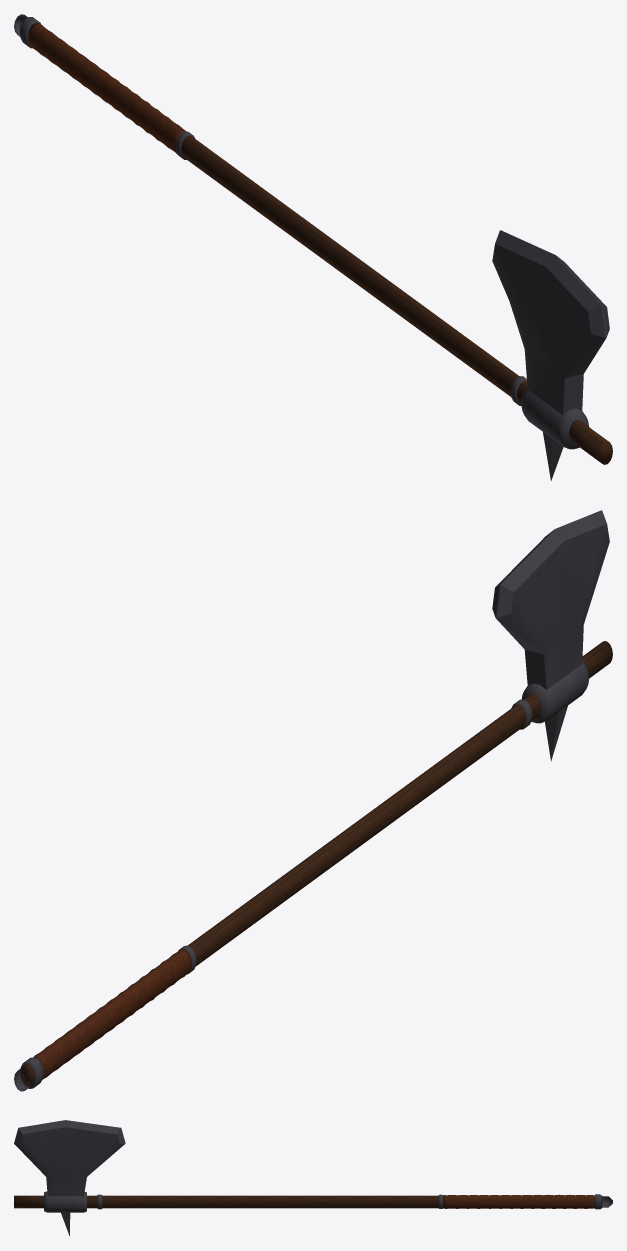
The model's file is weapon_timber_axe.glb.
3 renders of one model, top to bottom at view 1: azimuth 30°, elevation 25°; view 2: azimuth 150°, elevation 25°; view 3: azimuth 270°, elevation 25°, orthographic. The views are drawn at different scales.
Visible parts, largest first — view 1: timber_axe; view 2: timber_axe; view 3: timber_axe.
Part boxes in pixels (box(x1,y1,x2,y2)): timber_axe: box(14, 14, 612, 480); timber_axe: box(14, 510, 612, 1091); timber_axe: box(14, 1120, 612, 1235).
Bounding box in the file's own units: 0.0408 × 0.3 × 1.39.
3 materials, 3 textured.
